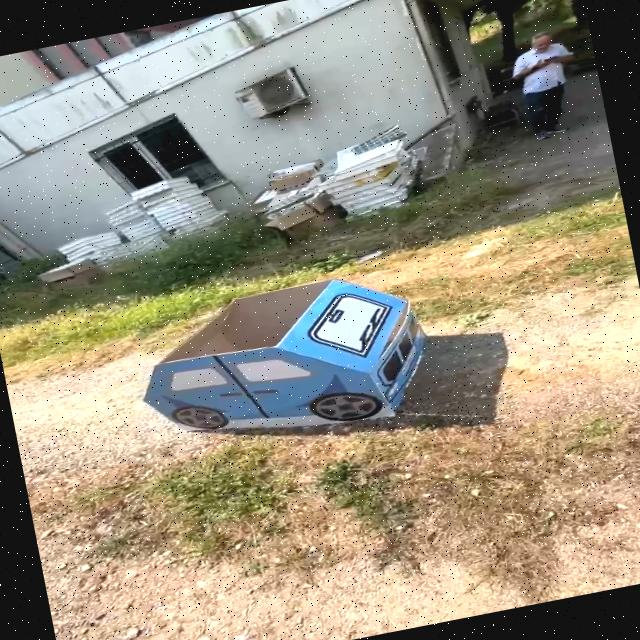blue_car: (100, 249, 458, 493)
